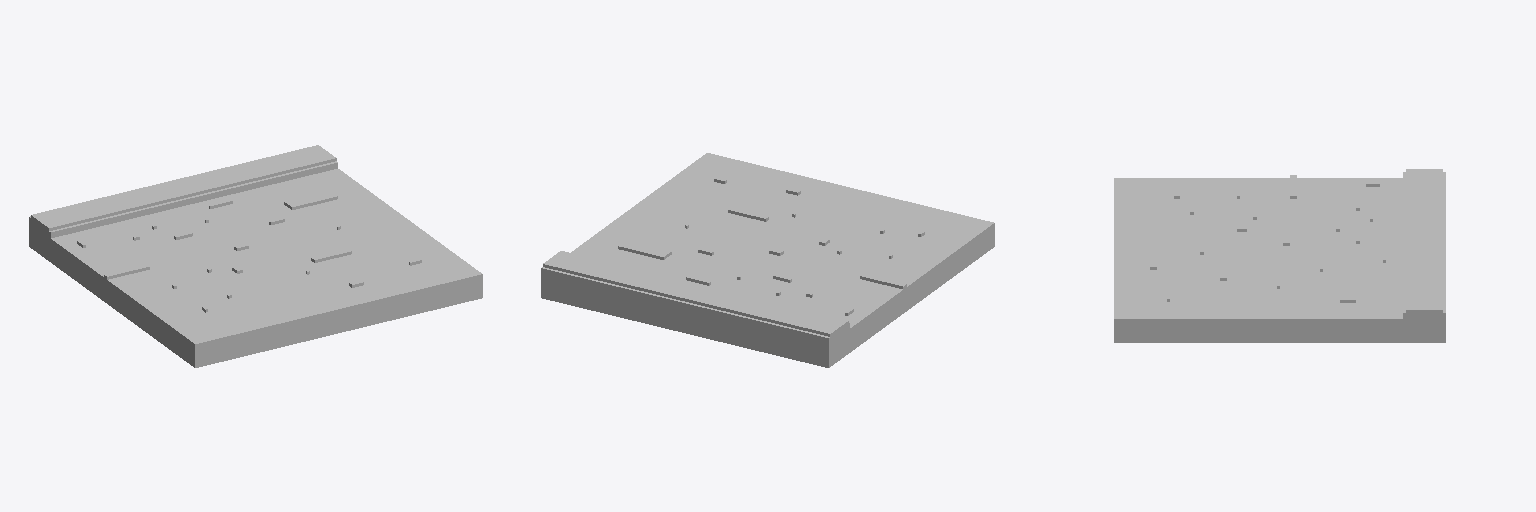
Rendered from Grass_1.obj.
3 views of the same model, side by side, from view 1: azimuth 30°, elevation 25°; view 2: azimuth 150°, elevation 25°; view 3: azimuth 270°, elevation 25° (orthographic).
Visible parts, largest first — view 1: Grass_1; view 2: Grass_1; view 3: Grass_1.
Part boxes in pixels (left/top/right/bottom): Grass_1: left=29, top=145, right=482, bottom=367; Grass_1: left=541, top=153, right=994, bottom=367; Grass_1: left=1114, top=169, right=1445, bottom=342.
Bounding box in the file's own units: 100 × 11 × 100.